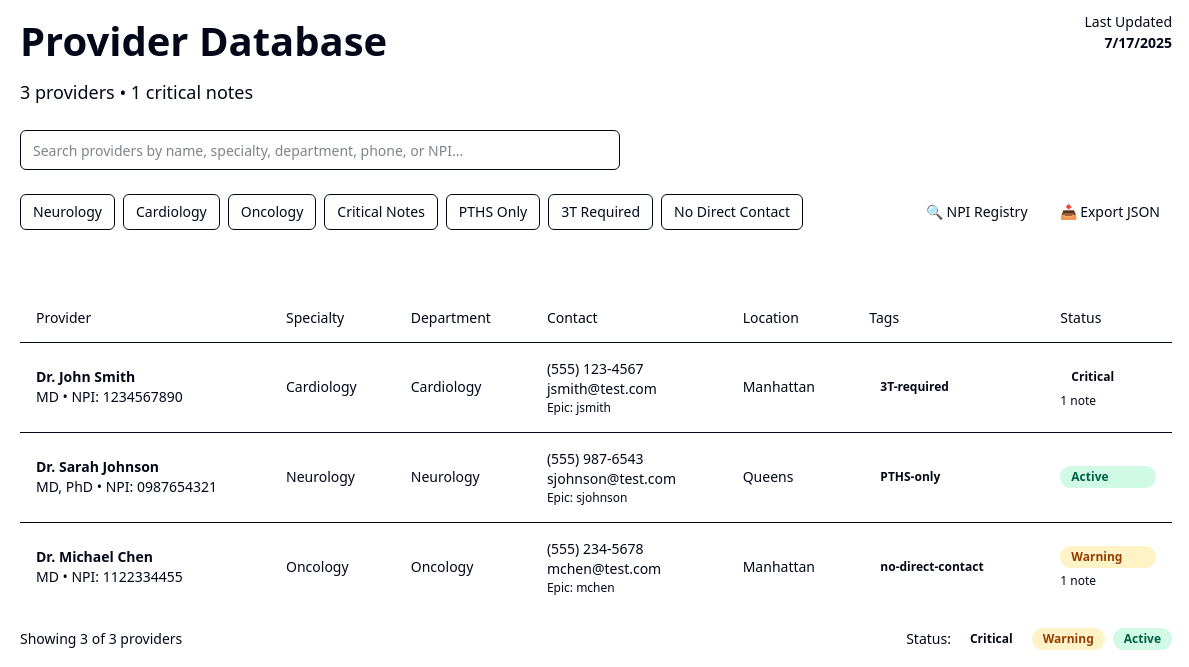
Test: Providers Page - Core Functionality (TDD) › 2. Search Functionality (TDD) › filters providers by name (case-insensitive)
Test behavior: Search should filter by name
Type "john" into the field at (320, 150), box [20,130,620,170]
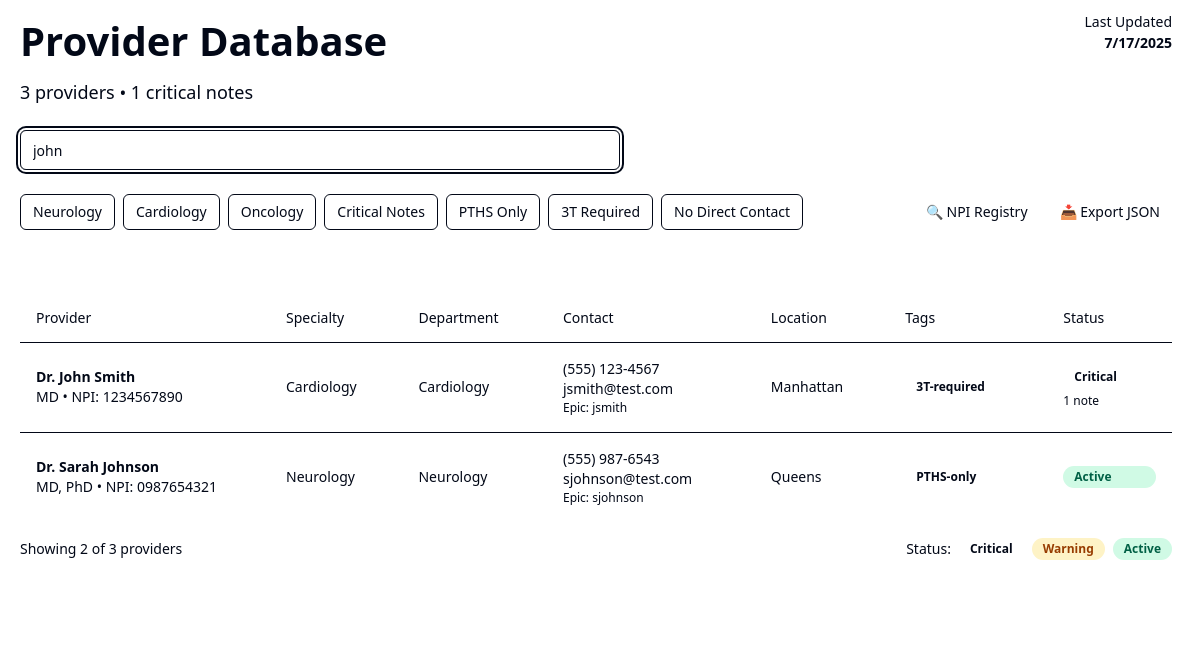
Expected: the text "Dr. John Smith" is shown, [36,367,135,386]
Now the text "Dr. Michael Chen" is gone
